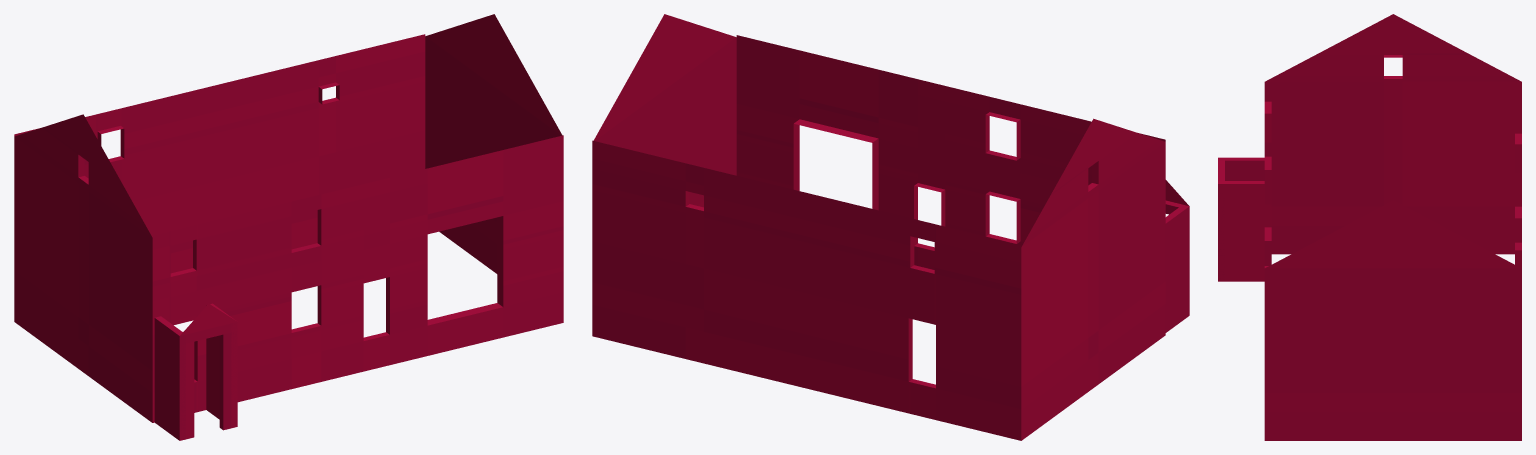
File: SM_Bld_177_Masonry.glb
3 renders of one model, left to right at view 1: azimuth 30°, elevation 25°; view 2: azimuth 150°, elevation 25°; view 3: azimuth 270°, elevation 25°, orthographic. The views are drawn at different scales.
Parts seen in each view (by area): view 1: SM_Bld_177_Masonry; view 2: SM_Bld_177_Masonry; view 3: SM_Bld_177_Masonry.
Boxes of the visible parts, x1,y1,x2,y2 form: SM_Bld_177_Masonry: (14, 14, 563, 440); SM_Bld_177_Masonry: (592, 14, 1189, 440); SM_Bld_177_Masonry: (1218, 14, 1521, 440).
Size of the model in its own units: 14.15 by 8.5 by 9.74.
